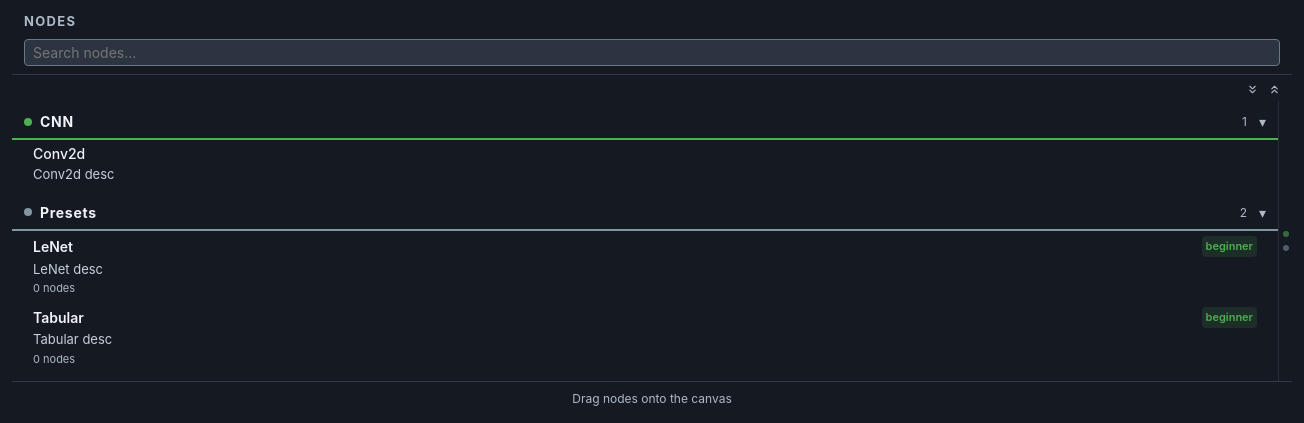
NodesTab — presets group › finds a preset by name, and says so when only a preset matches
Type "lenet" into the field with placeholder "Search nodes..." at (652, 53), box [24, 39, 1280, 66]
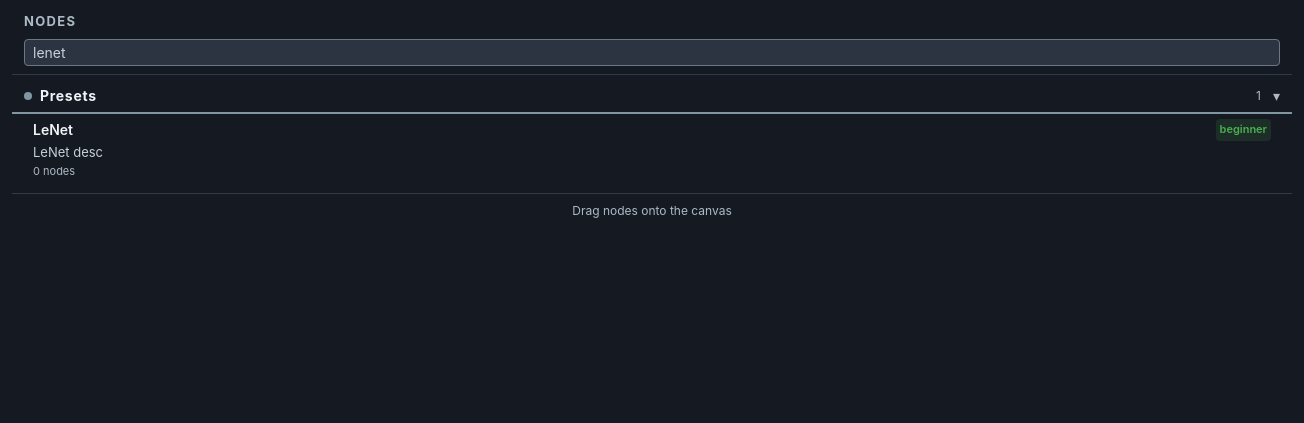
Check: the text "LeNet" is shown, box [33, 121, 73, 138]
Check: the text "Tabular" is gone
